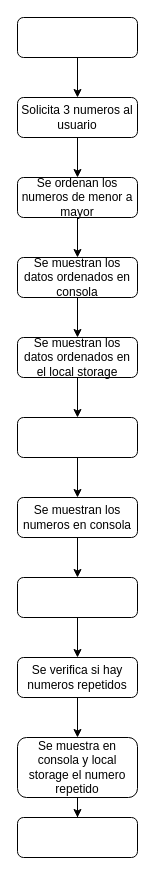
The diagram is 155 pixels wide and 875 high, and some of its shapes have lost their labels. The shapes that lost their labels are listed below. From the top down, each one's box as (x1, y1, x2, y2) in pixels, then its label:
(16, 16, 138, 58): Inicio
(16, 416, 138, 458): Se ordenan los numeros de mayor a menor
(16, 576, 138, 618): Se muestran los numeros en local storage
(16, 816, 138, 858): Fin
